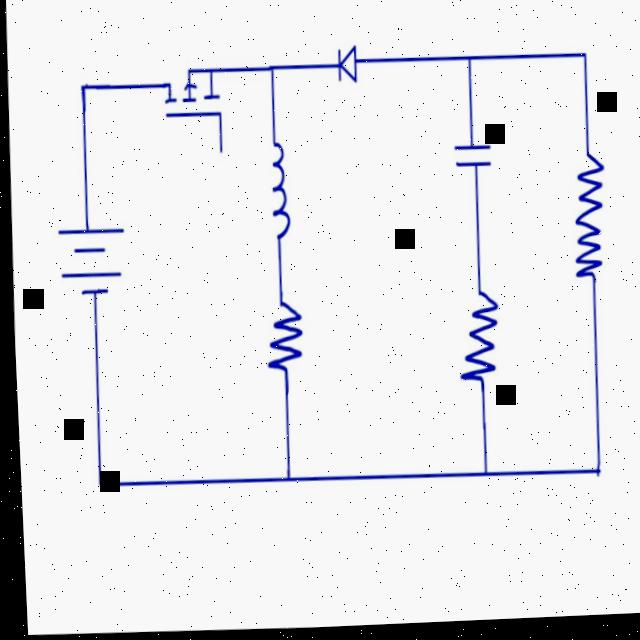capacitor: (442, 134, 502, 190)
diode: (321, 39, 369, 96)
inductor: (253, 126, 304, 266)
mosfet: (142, 41, 238, 170)
resistor: (552, 132, 617, 295), (452, 271, 506, 413), (253, 270, 313, 389)
source: (45, 197, 133, 324)
